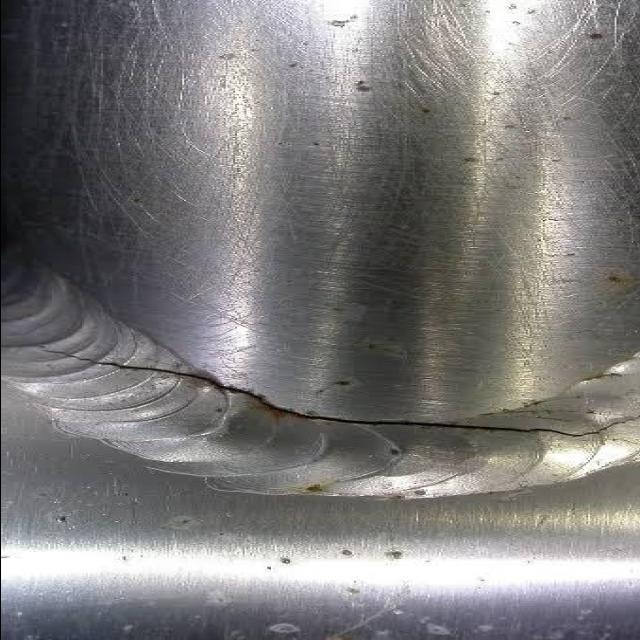Crack: (23, 344, 640, 440)
